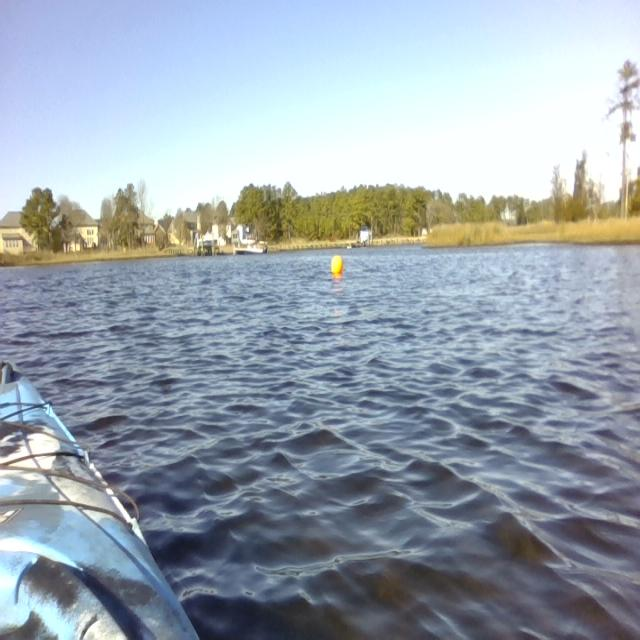Buoy: (331, 250, 344, 278)
